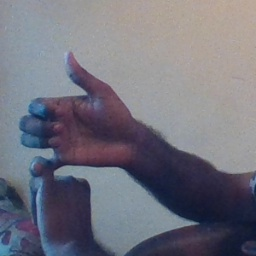S: (17, 45, 146, 234)
